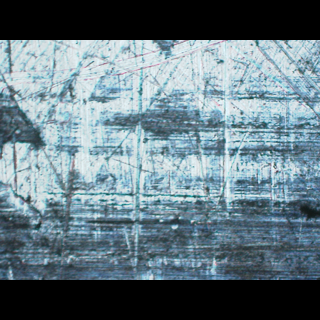d: (3, 40, 319, 242)
